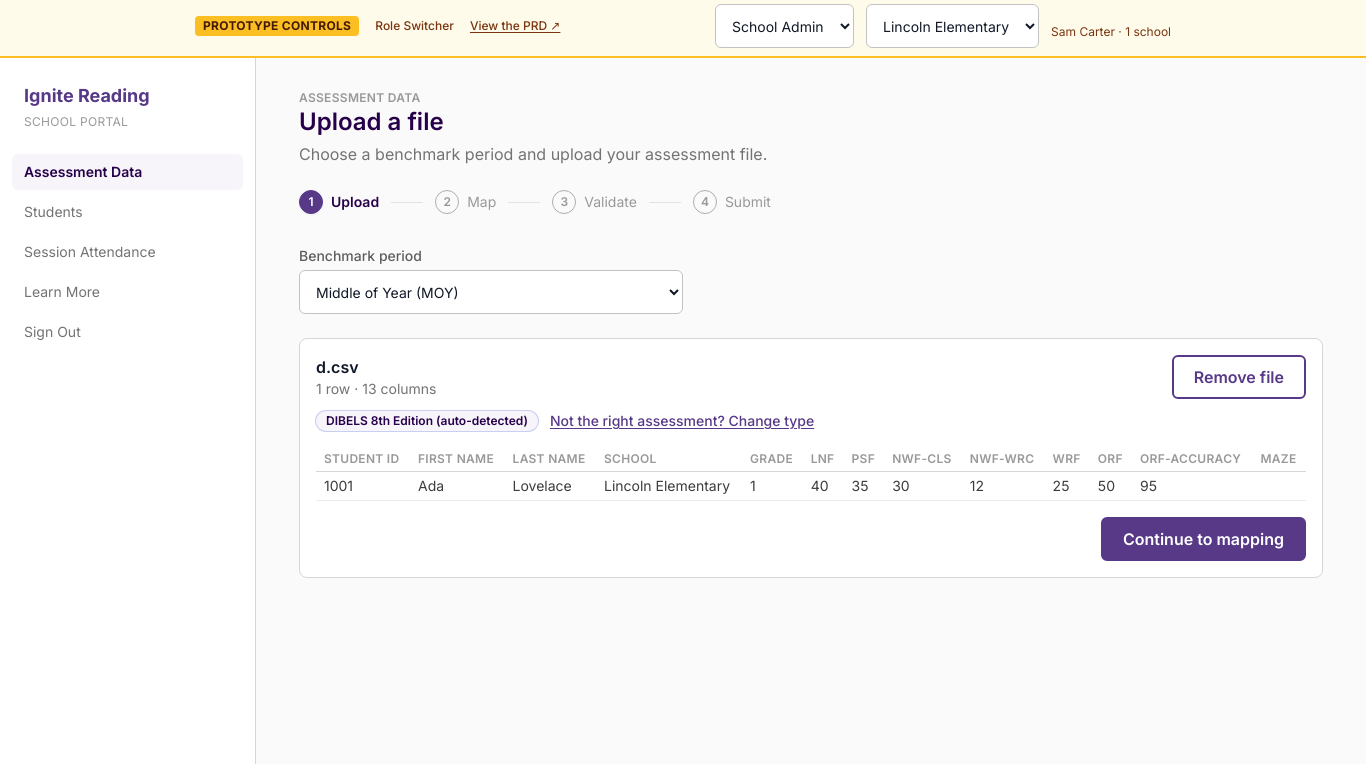
US4 demo: adaptive submit › a clean file offers Submit and reaches the success screen
Earlier steps of the test are not shown.
Click the button "Continue to mapping": x=1204, y=539 left=1101, top=517, right=1306, bottom=561
(page scrolled)
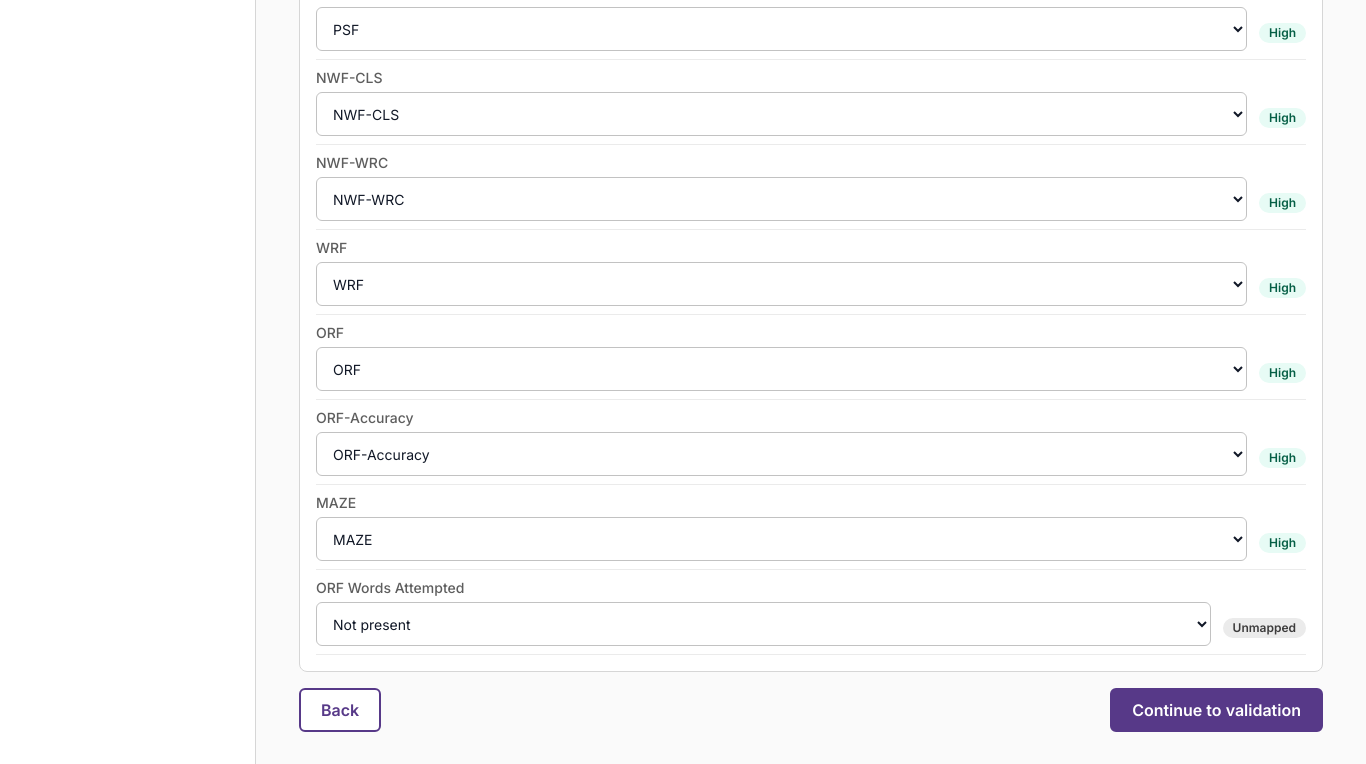
Click the button "Continue to validation": x=1217, y=710 left=1110, top=688, right=1323, bottom=732
(page scrolled)
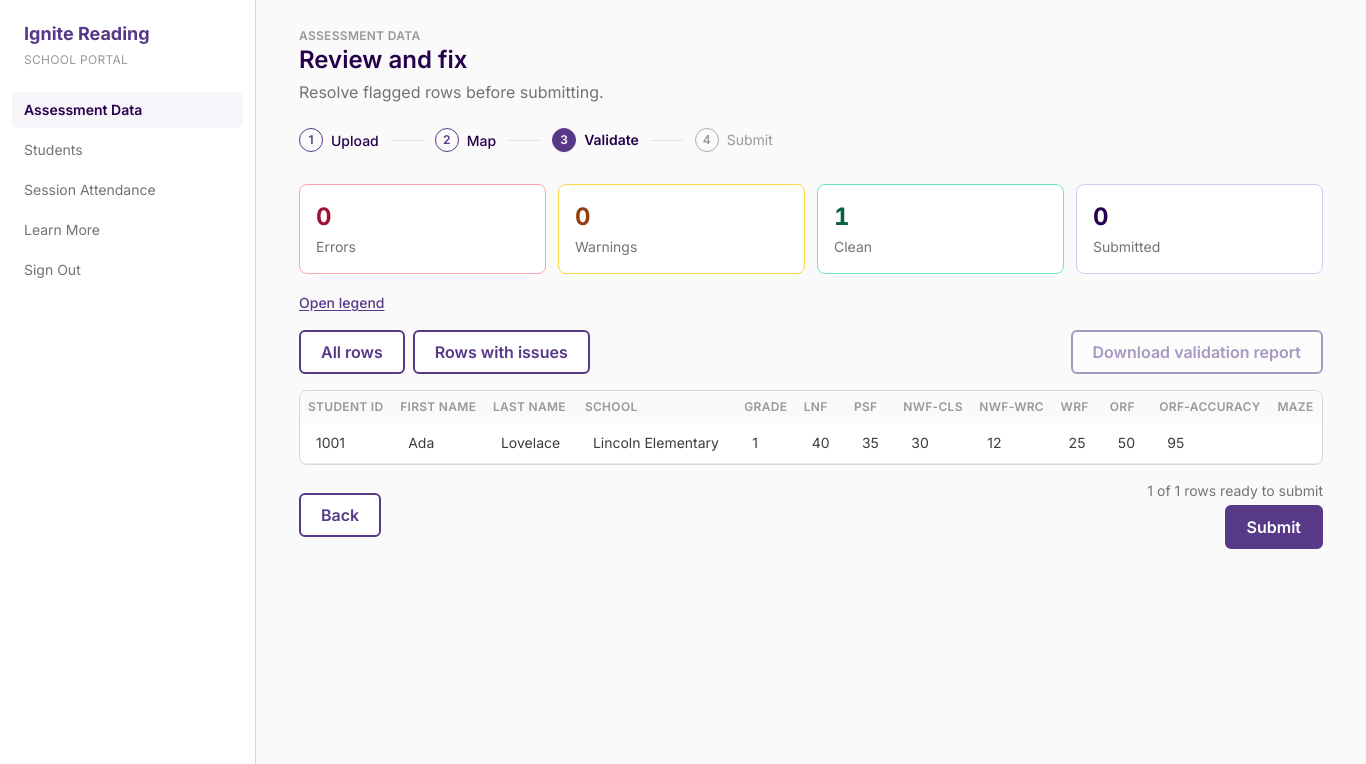
Expected: the element named "validation results" is shown, left=299, top=184, right=1323, bottom=548
Expected: the button "Submit" is enabled
Click the button "Submit": x=1274, y=526 left=1225, top=504, right=1323, bottom=548
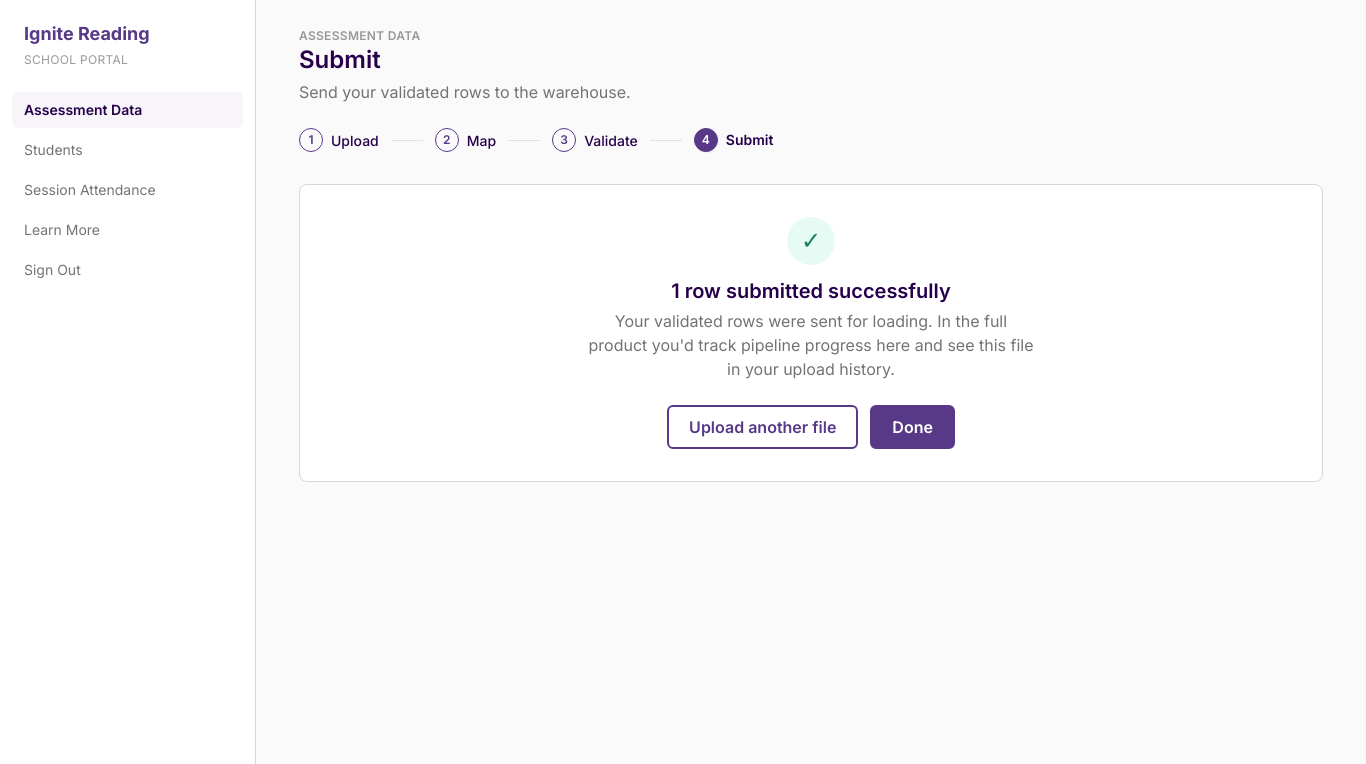
Expected: the heading "1 row submitted successfully" is shown, left=671, top=279, right=951, bottom=303
